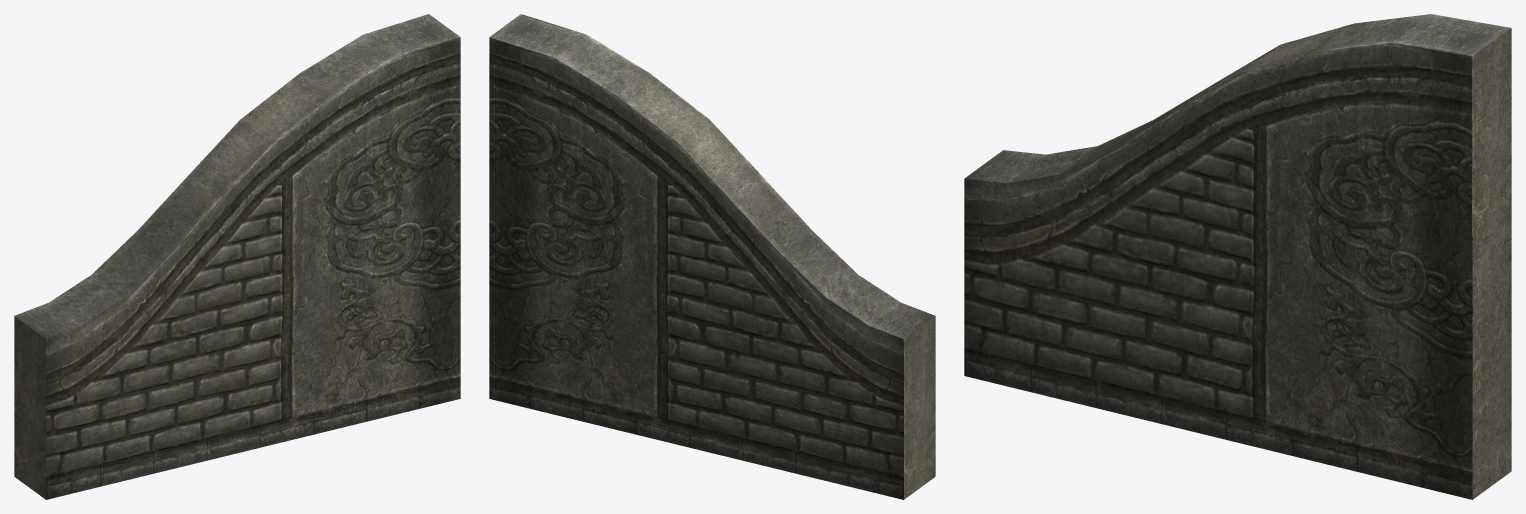
Rendered from dawnmist_wall00.fbx.
3 renders of one model, left to right at view 1: azimuth 30°, elevation 25°; view 2: azimuth 150°, elevation 25°; view 3: azimuth 330°, elevation 25°, orthographic. The views are drawn at different scales.
Parts seen in each view (by area): view 1: DawnMist_wall00; view 2: DawnMist_wall00; view 3: DawnMist_wall00.
Part boxes in pixels (x1,y1,x2,y2): DawnMist_wall00: [14, 14, 460, 499]; DawnMist_wall00: [489, 14, 935, 499]; DawnMist_wall00: [964, 14, 1511, 499].
Size of the model in its own units: 7.83 by 6.53 by 1.04.
